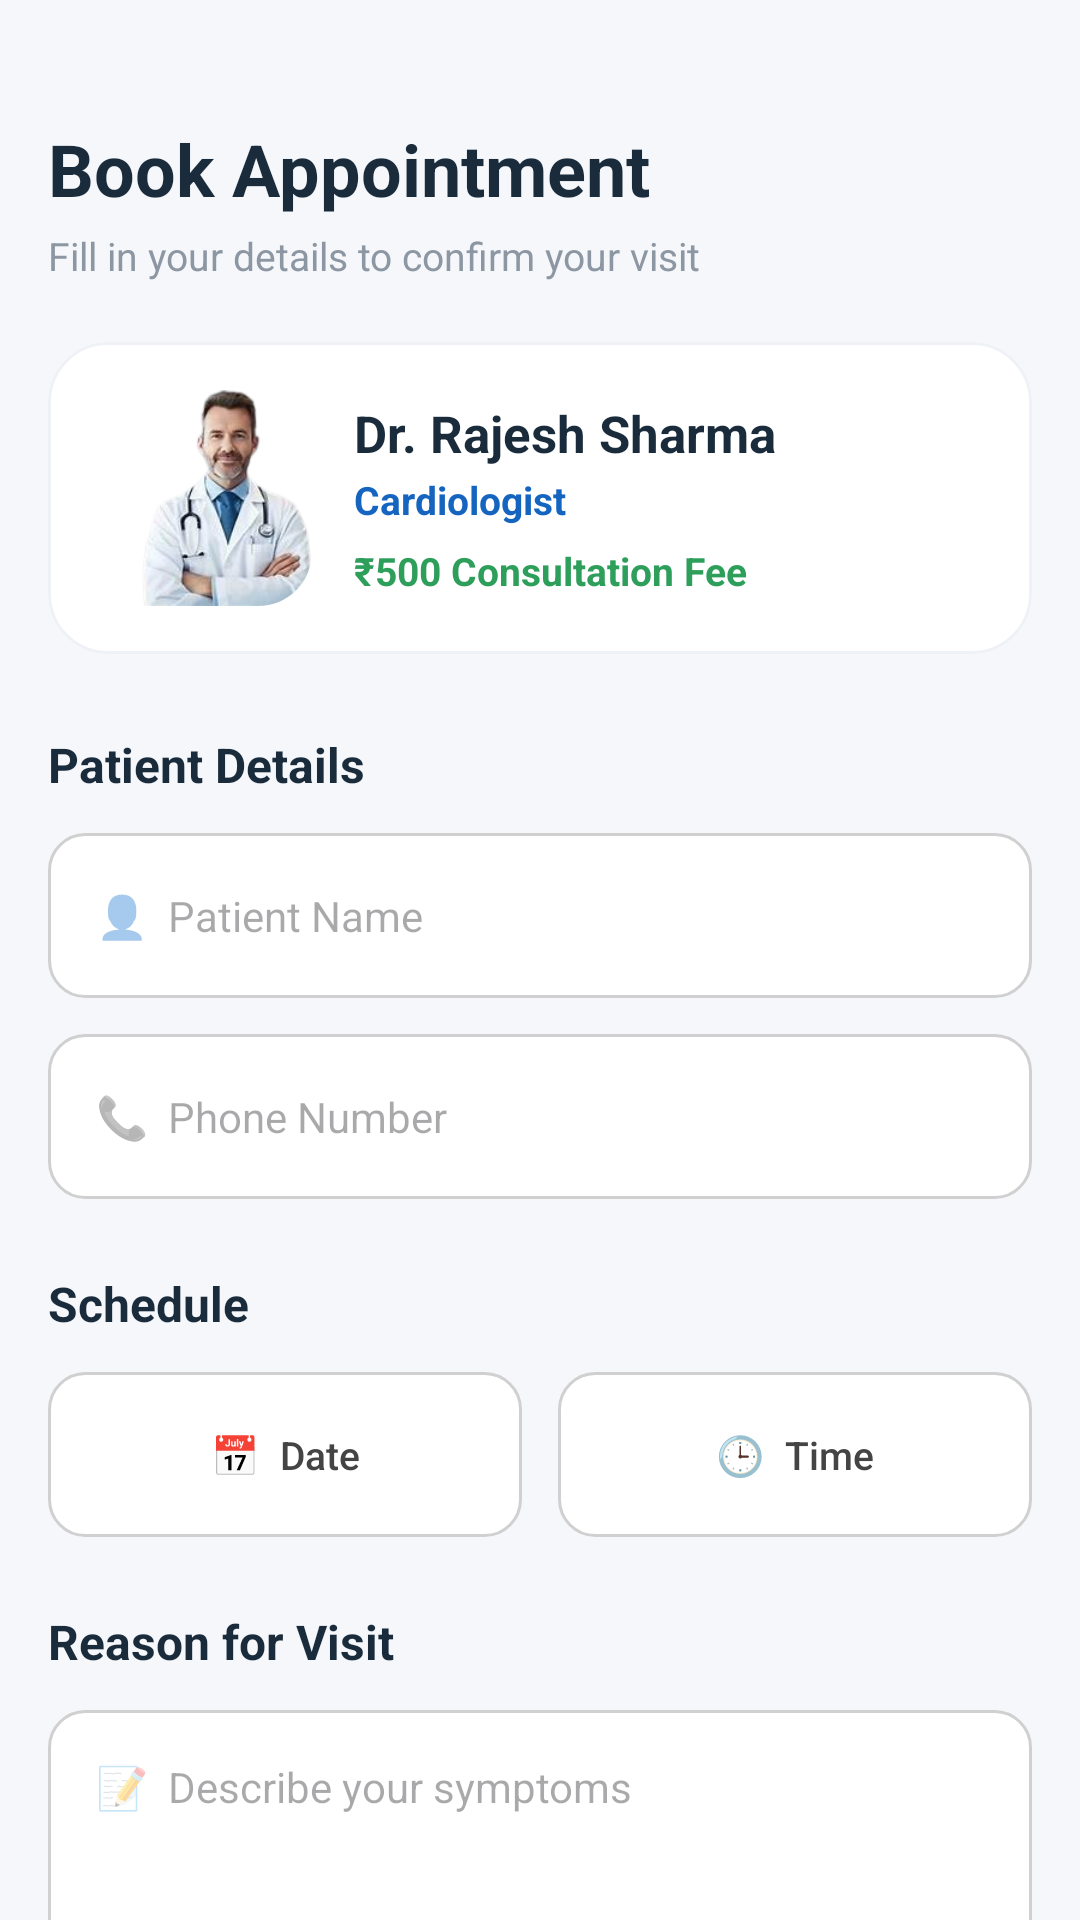

Named icons in this screenshot (1080px x 1920px) and their bounding boxes, (x1, y1, x2, y2):
doctor: (147, 390, 310, 606)
